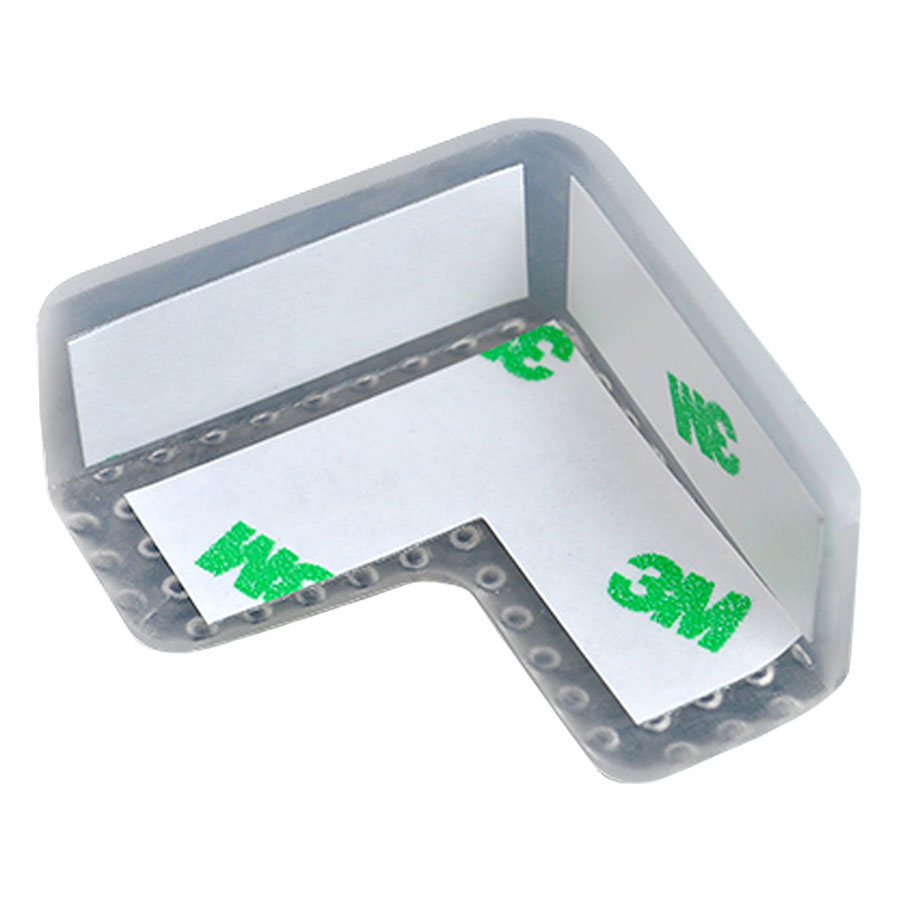3M: (602, 544, 757, 658), (660, 360, 746, 482)
